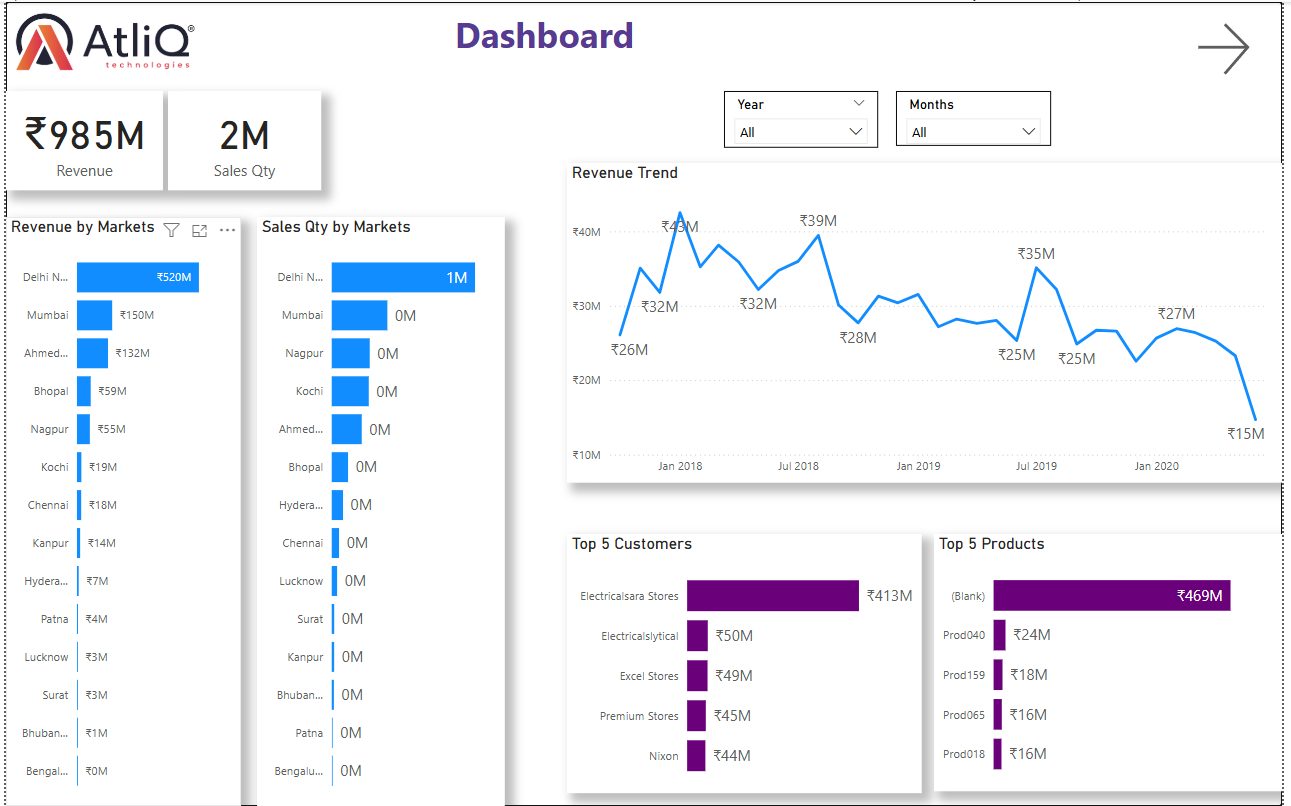

What the dashboard file says about the page in this screenshot:
{"tool":"powerbi","page":{"name":"Key Insights","canvas":[1350,850],"ordinal":0},"visuals":[{"type":"card","fields":{"Values":["BaseMeasures (2).Revenue"]},"box":[0,94.1,166,104.7],"z":0},{"type":"card","fields":{"Values":["BaseMeasures (2).Sales Qty"]},"box":[171.3,94.1,161.8,104.7],"z":1000},{"type":"barChart","title":"Revenue by Markets","fields":{"Y":["BaseMeasures (2).Revenue"],"Category":["sales markets.markets_name"]},"box":[0,227.3,248.4,622.7],"z":2000},{"type":"barChart","title":"Sales Qty by Markets","fields":{"Y":["BaseMeasures (2).Sales Qty"],"Category":["sales markets.markets_name"]},"box":[265.4,227.3,262.2,622.7],"z":3000},{"type":"barChart","title":"Top 5 Customers","fields":{"Y":["BaseMeasures (2).Revenue"],"Category":["sales customers.custmer_name"]},"box":[593.1,562.4,375.3,273.8],"z":4000},{"type":"barChart","title":"Top 5 Products","fields":{"Y":["BaseMeasures (2).Revenue"],"Category":["Sales transactions.product_code"]},"box":[984.1,563,366.2,270.6],"z":5000},{"type":"lineChart","title":"Revenue Trend","fields":{"Y":["BaseMeasures (2).Revenue"],"Category":["sales date.cy_date"]},"box":[593.1,170.2,757,338.3],"z":6000},{"type":"slicer","fields":{"Values":["sales date.year"]},"box":[759.1,94.1,162.8,60.3],"z":7000},{"type":"slicer","fields":{"Values":["sales date.cy_date"]},"box":[940.9,94.1,163.9,58.1],"z":8000},{"type":"image","box":[0,0,210.4,83.5],"z":9000},{"type":"textbox","box":[469.4,3.2,222,80.3],"z":10000},{"type":"actionButton","box":[1252.8,15.9,85.6,67.7],"z":11001}]}

Visuals, with their boxes in screenshot pixels (x1, y1, x2, y2), scaled from the page's 1350x850 canvas onto the 1291x806 screenshot:
card - BaseMeasures (2).Revenue: select_region(0, 89, 159, 189)
card - BaseMeasures (2).Sales Qty: select_region(164, 89, 319, 189)
"Revenue by Markets" barChart: select_region(0, 216, 238, 805)
"Sales Qty by Markets" barChart: select_region(254, 216, 505, 805)
"Top 5 Customers" barChart: select_region(567, 533, 926, 793)
"Top 5 Products" barChart: select_region(941, 534, 1290, 790)
"Revenue Trend" lineChart: select_region(567, 161, 1290, 482)
slicer - sales date.year: select_region(726, 89, 882, 146)
slicer - sales date.cy_date: select_region(900, 89, 1057, 144)
image: select_region(0, 0, 201, 79)
textbox: select_region(449, 3, 661, 79)
actionButton: select_region(1198, 15, 1280, 79)
